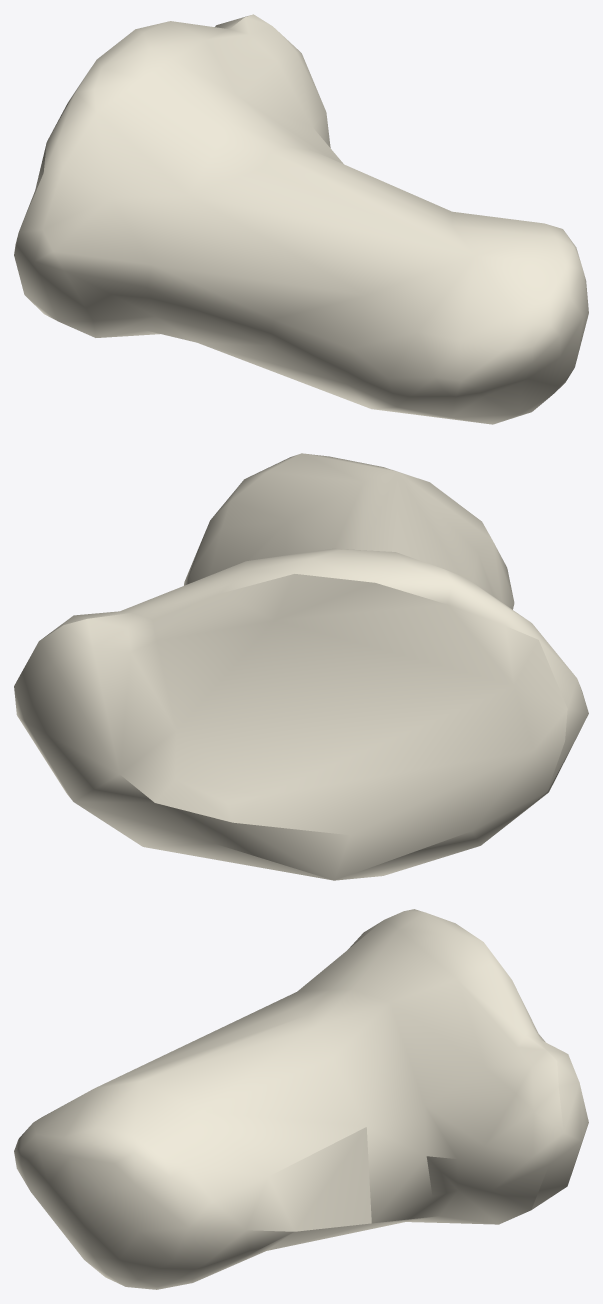
File: fma32655_fj3180.glb
3 renders of one model, top to bottom at view 1: azimuth 30°, elevation 25°; view 2: azimuth 150°, elevation 25°; view 3: azimuth 270°, elevation 25°, orthographic. The views are drawn at different scales.
Visible parts, largest first — view 1: FMA32655_FJ3180; view 2: FMA32655_FJ3180; view 3: FMA32655_FJ3180.
Part boxes in pixels (x1,y1,x2,y2): FMA32655_FJ3180: (14, 14, 588, 424); FMA32655_FJ3180: (14, 453, 588, 880); FMA32655_FJ3180: (14, 909, 588, 1289).
Bounding box in the file's own units: 0.009 × 0.00589 × 0.0113.
